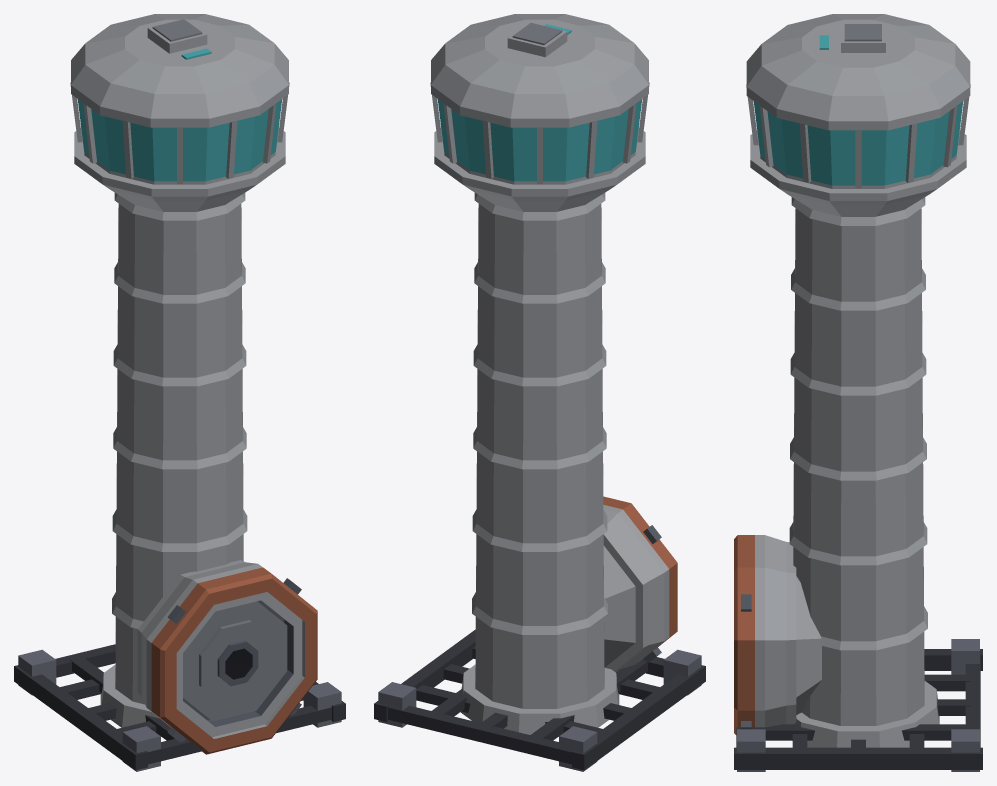
The model's file is observation-tower-69b692.glb.
3 views of the same model, side by side, from view 1: azimuth 30°, elevation 25°; view 2: azimuth 150°, elevation 25°; view 3: azimuth 270°, elevation 25° (orthographic). The views are drawn at different scales.
Visible parts, largest first — view 1: tower, airlock-door; view 2: tower; view 3: tower.
Part boxes in pixels (x1,y1,x2,y2): tower: (14, 14, 345, 771); airlock-door: (183, 601, 287, 721); tower: (374, 14, 705, 771); tower: (734, 14, 982, 771).
Size of the model in its own units: 4 by 12.21 by 4.
